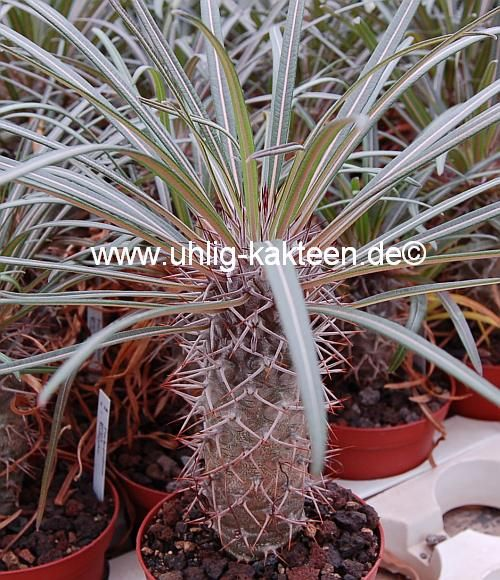Pachypodium geayi: (45, 19, 457, 573)
